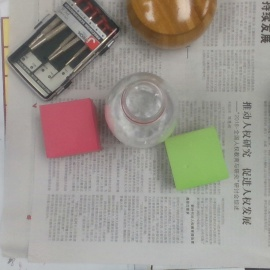bottle: (105, 72, 176, 148)
chess: (125, 1, 220, 48)
